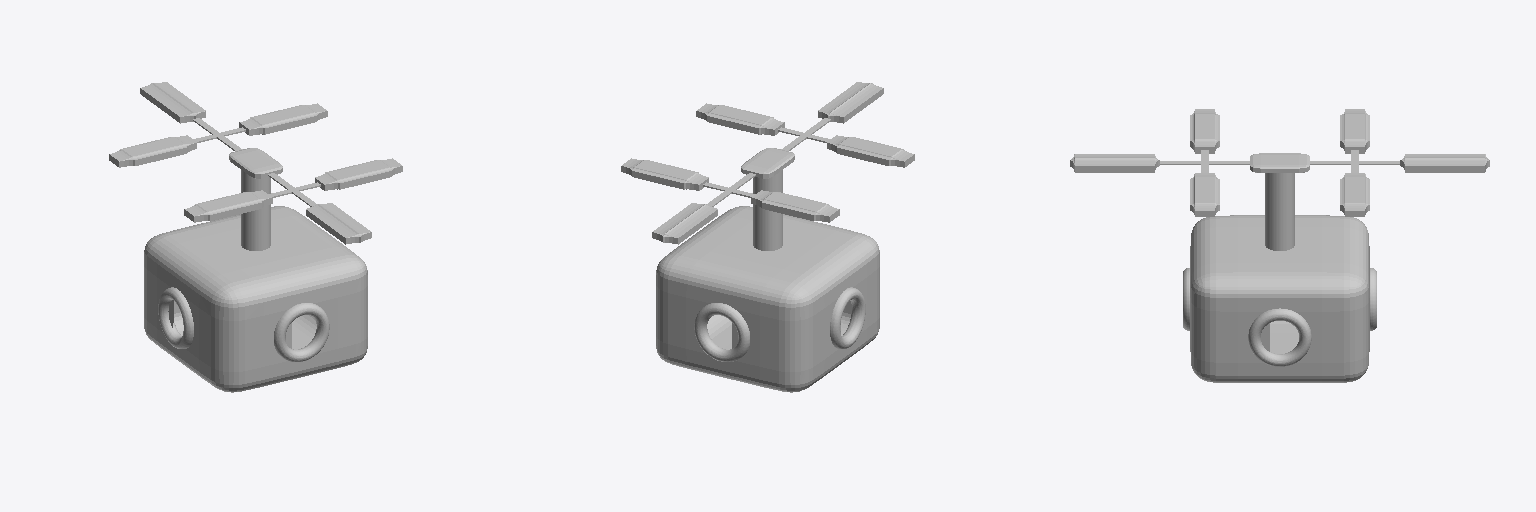
The model's file is room_solar.obj.
3 renders of one model, left to right at view 1: azimuth 30°, elevation 25°; view 2: azimuth 150°, elevation 25°; view 3: azimuth 270°, elevation 25°, orthographic.
Visible parts, largest first — view 1: Cube.001, Cube.006_Cube.007, Torus.001, Cube_Cube.002, Cube.010_Cube.011; view 2: Cube.001, Cube.006_Cube.007, Torus.001, Cube_Cube.002, Cube.010_Cube.011; view 3: Cube.001, Cube.006_Cube.007, Cube_Cube.002, Torus.001, Cube.010_Cube.011.
Part boxes in pixels (bbox=[...]): Cube.001: bbox=[144, 206, 367, 392]; Cube.006_Cube.007: bbox=[109, 82, 402, 244]; Torus.001: bbox=[158, 287, 329, 361]; Cube_Cube.002: bbox=[229, 148, 282, 250]; Cube.010_Cube.011: bbox=[193, 118, 320, 206]; Cube.001: bbox=[656, 206, 879, 392]; Cube.006_Cube.007: bbox=[621, 82, 914, 244]; Torus.001: bbox=[694, 287, 865, 361]; Cube_Cube.002: bbox=[741, 148, 794, 250]; Cube.010_Cube.011: bbox=[703, 118, 830, 206]; Cube.001: bbox=[1190, 215, 1369, 382]; Cube.006_Cube.007: bbox=[1070, 109, 1489, 216]; Cube_Cube.002: bbox=[1250, 153, 1309, 250]; Torus.001: bbox=[1183, 268, 1376, 366]; Cube.010_Cube.011: bbox=[1160, 150, 1399, 172].
Bounding box in the file's own units: 8 × 7.17 × 14.